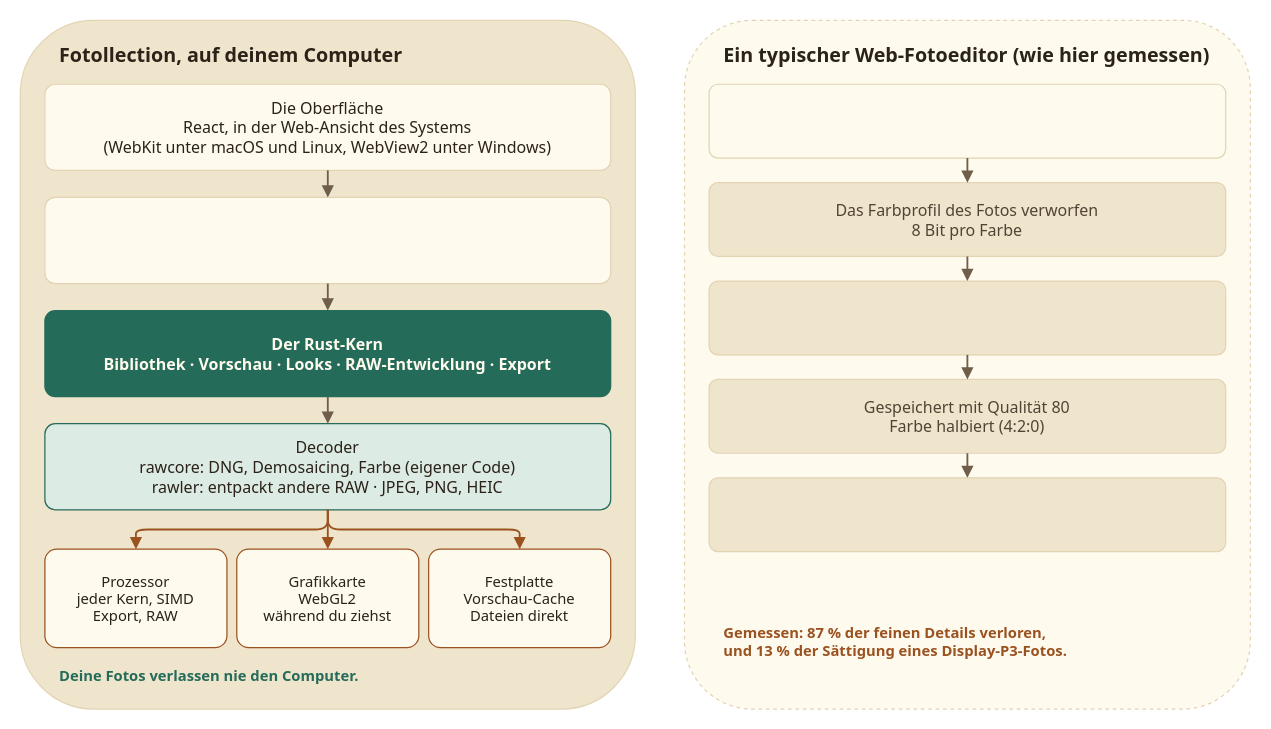
Image size: 1271x729. Some labels were removed from this diagram. Each missing label, with the box of its shape:
Auf 2.000 px verkleinert: (708, 280, 1226, 355)
Das Labor vergrößert es wieder für den Abzug: (708, 477, 1226, 552)
Ein Browser-Tab JavaScript und ein Canvas: (708, 83, 1226, 158)
Jede Anfrage in Rust geprüft, bevor etwas läuft (Tauri IPC): (44, 196, 611, 284)
